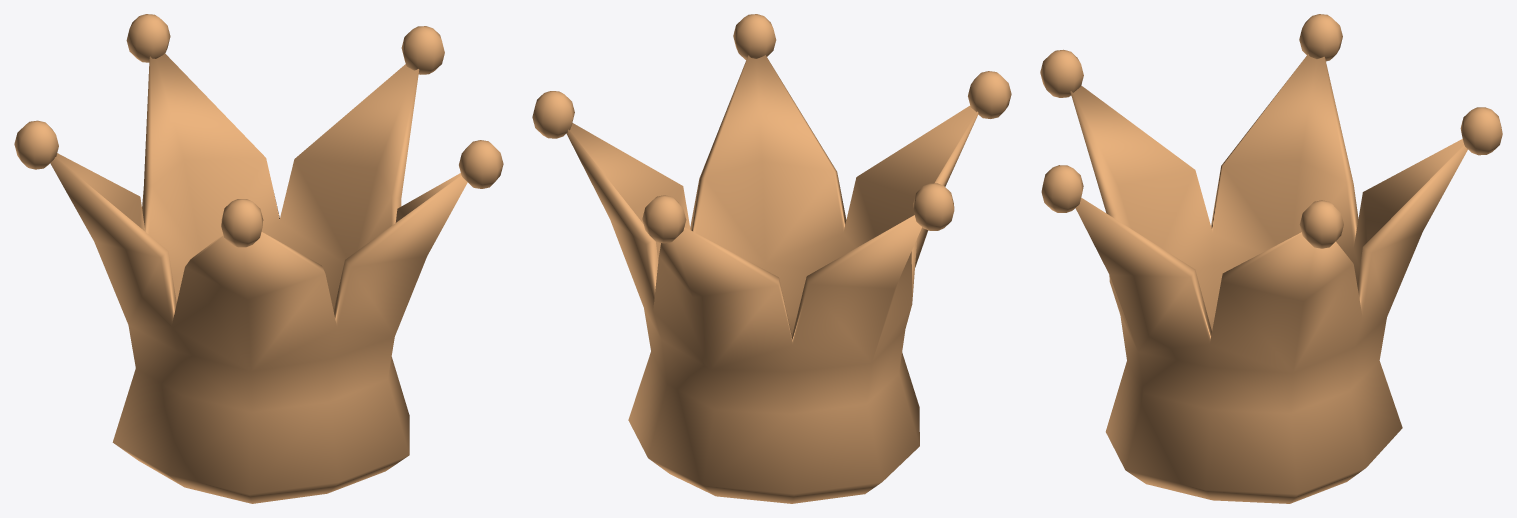
Rendered from crown.fbx.
3 views of the same model, side by side, from view 1: azimuth 30°, elevation 25°; view 2: azimuth 150°, elevation 25°; view 3: azimuth 270°, elevation 25° (orthographic).
Visible parts, largest first — view 1: crown; view 2: crown; view 3: crown.
Boxes of the visible parts, x1,y1,x2,y2 form: crown: (14,14,503,503); crown: (532,14,1011,503); crown: (1040,14,1502,503).
Bounding box in the file's own units: 10.82 × 8.45 × 10.32.
